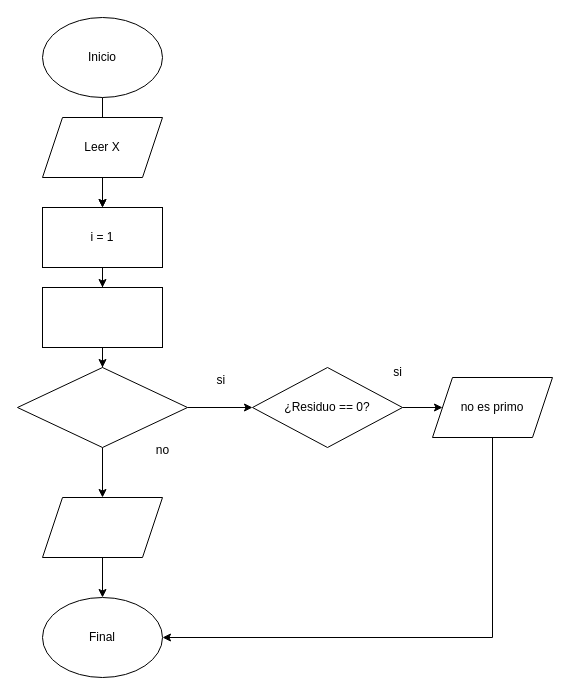
The diagram is 570 pixels wide and 695 high, and some of its shapes have lost their labels. The centre of each missing label's shape, as x and y in pixels:
"i + i = 1 Dividir X dentro de i" belongs at [102,317].
"Primo" belongs at [102,527].
"¿i < X?" belongs at [102,407].
